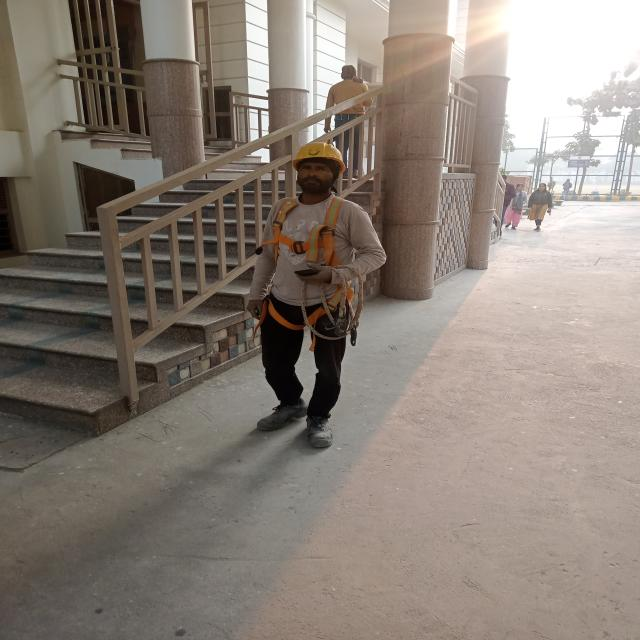no jacket: (254, 139, 380, 450)
unsafe: (327, 65, 368, 178), (528, 182, 554, 232), (505, 182, 528, 230), (560, 178, 573, 200)
